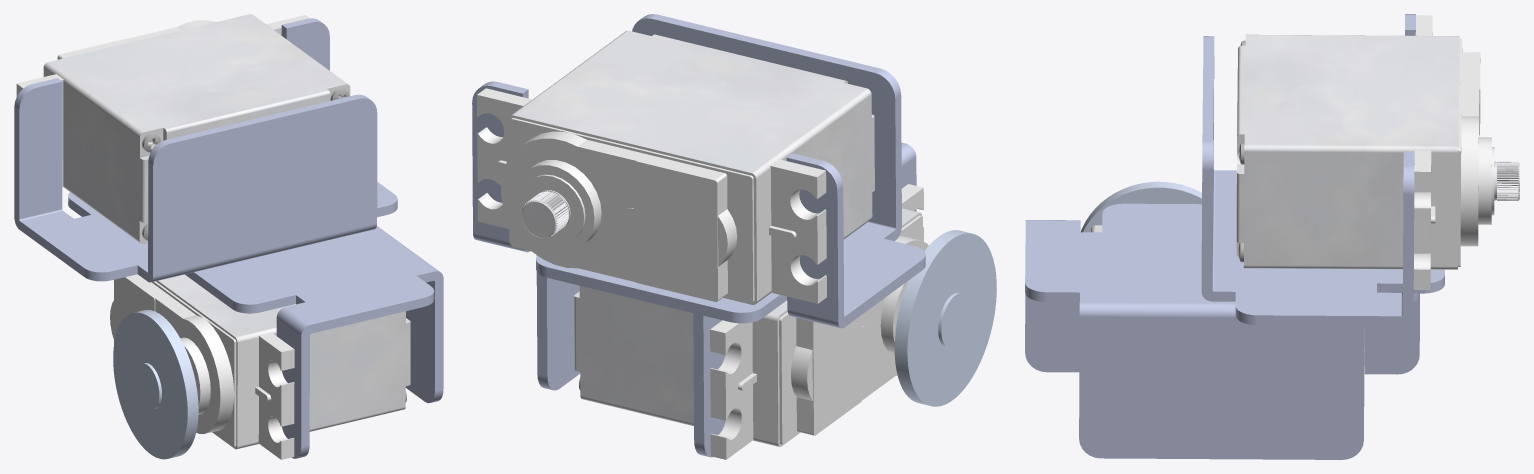
File: wrist.dae
3 views of the same model, side by side, from view 1: azimuth 30°, elevation 25°; view 2: azimuth 150°, elevation 25°; view 3: azimuth 270°, elevation 25° (orthographic). The views are drawn at different scales.
Visible parts, largest first — view 1: Actor0; view 2: Actor0; view 3: Actor0.
Part boxes in pixels (left/top/right/bottom): Actor0: left=14, top=14, right=443, bottom=459; Actor0: left=472, top=14, right=996, bottom=459; Actor0: left=1025, top=14, right=1519, bottom=459.
Size of the model in its own units: 0.0573 by 0.0504 by 0.0717.
6 materials, 2 textured.
